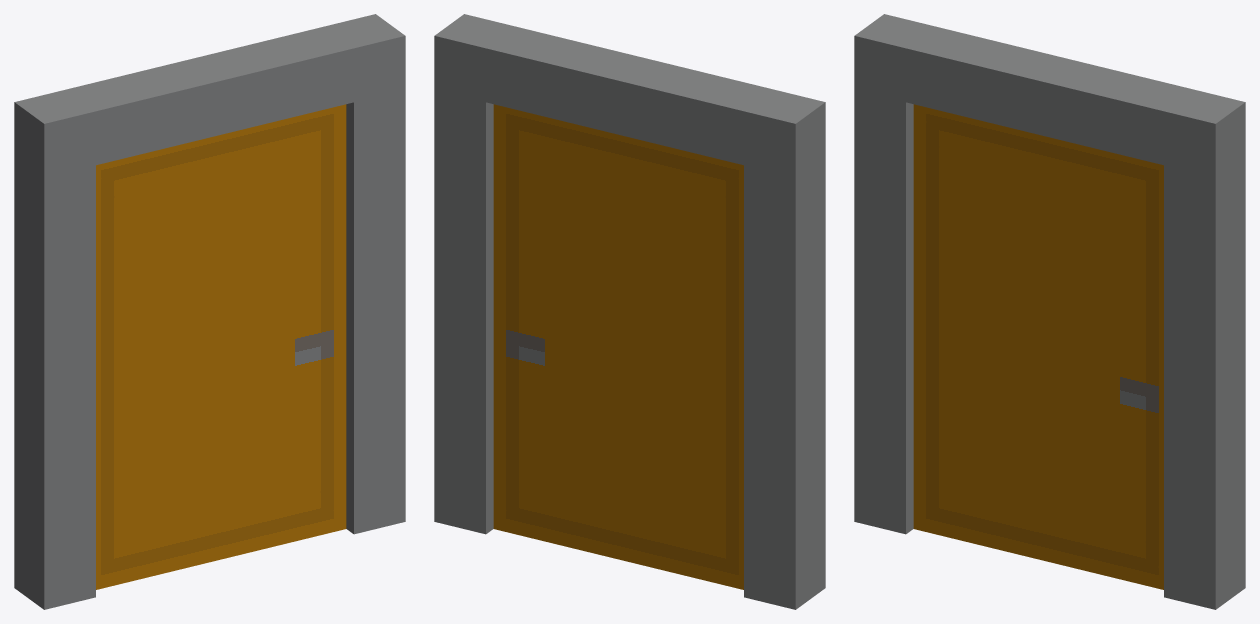
File: Porta1.gltf
3 views of the same model, side by side, from view 1: azimuth 30°, elevation 25°; view 2: azimuth 150°, elevation 25°; view 3: azimuth 330°, elevation 25° (orthographic).
Parts seen in each view (by area): view 1: cuboid (×4); view 2: cuboid (×4); view 3: cuboid (×4).
Part boxes in pixels (<box>): cuboid (×4): <box>14,14,405,609</box>; cuboid (×4): <box>434,14,825,609</box>; cuboid (×4): <box>854,14,1245,609</box>.
Bounding box in the file's own units: 1.75 × 2.25 × 0.25.
1 material, 1 textured.
